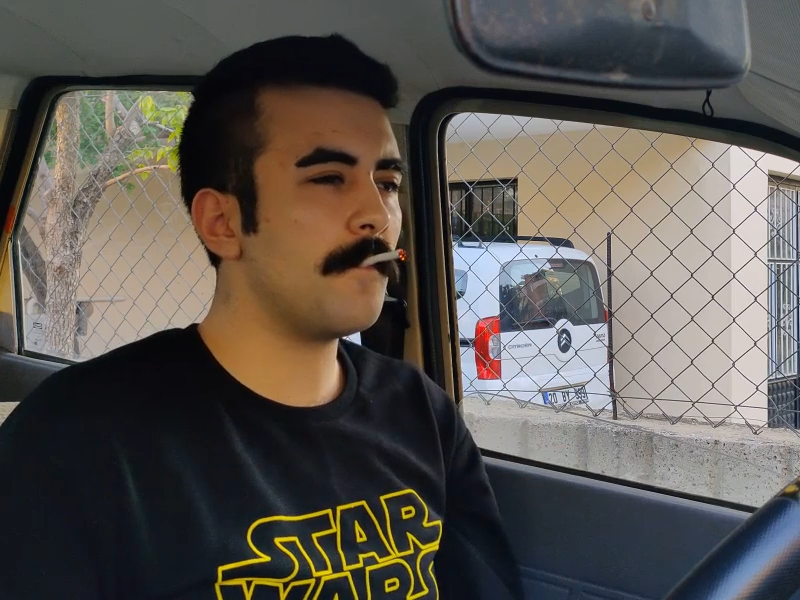sigara: (361, 248, 408, 267)
